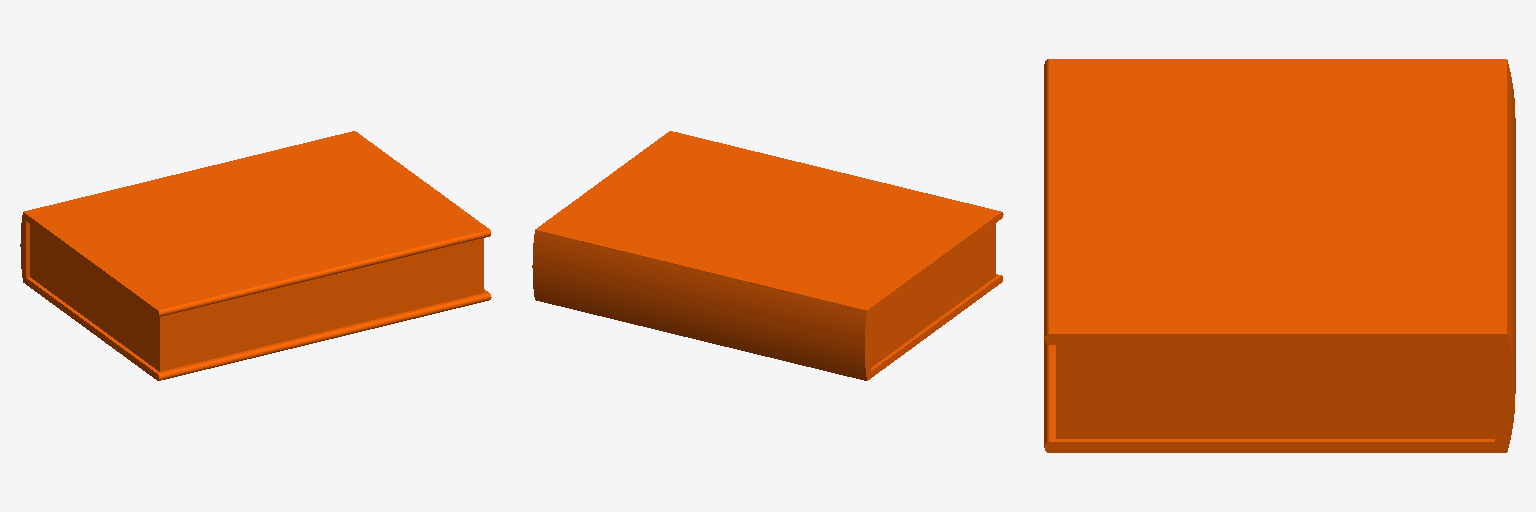
robot.urdf — Book_6c467f08afa8c50e8ff650f628611182:
<?xml version="1.0" ?>
<robot name="Book_6c467f08afa8c50e8ff650f628611182">
   <material name="obj_color">
      <color rgba="1.0 0.423529411765 0.0392156862745 1.0"/>
   </material>
   <link name="top">
      <inertial>
         <origin rpy="0.006898417032137814 0.01283724342119246 0.01872313165884507" xyz="0.0004640000000000059 0.007277835390769781 0.0004715763875897604"/>
         <mass value="2.315502644321294"/>
         <inertia ixx="0.006898417032137814" ixy="1.459146600543541e-20" ixz="-2.644703213485168e-20" iyy="0.012837243421236" iyz="1.600702517123921e-08" izz="0.01872313165880154"/>
      </inertial>
      <visual>
         <origin rpy="0 0 0" xyz="0 0 0"/>
         <geometry>
            <mesh filename="top_watertight_tiny.stl" scale="1 1 1"/>
         </geometry>
         <material name="obj_color"/>
      </visual>
      <collision>
         <origin rpy="0 0 0" xyz="0 0 0"/>
         <geometry>
            <mesh filename="top_watertight_tiny.obj" scale="1 1 1"/>
         </geometry>
      </collision>
   </link>
   <link name="bottom">
      <inertial>
         <origin rpy="1.633333333331402e-08 1.633333333331402e-08 1.633333333331402e-08" xyz="0.08660200000000004 0.08660200000000004 0.08660200000000004"/>
         <mass value="0.0009800000000000026"/>
         <inertia ixx="1.633333333331402e-08" ixy="-0" ixz="-0" iyy="1.633333333331402e-08" iyz="-0" izz="1.633333333331402e-08"/>
      </inertial>
      <visual>
         <origin rpy="0 0 0" xyz="0 0 0"/>
         <geometry>
            <mesh filename="bottom_watertight_tiny.stl" scale="1 1 1"/>
         </geometry>
         <material name="obj_color"/>
      </visual>
   </link>
   <link name="world"/>
   <joint name="world_to_base" type="fixed">
      <origin xyz="0 0 0"/>
      <axis xyz="0 0 0"/>
      <parent link="world"/>
      <child link="bottom"/>
   </joint>
   <joint name="rotation" type="revolute">
      <origin xyz="0 0 0"/>
      <axis xyz="0 0 -1"/>
      <parent link="bottom"/>
      <child link="top"/>
      <dynamics damping="1.0" friction="1.0"/>
      <limit effort="0.1" velocity="0.1" lower="0" upper="0.001"/>
   </joint>
</robot>

--- What the picture shows (computed from the rendered views, not written in the file) ---
The picture shows the robot from 3 angles, left to right: view 1: azimuth 30°, elevation 25°; view 2: azimuth 150°, elevation 25°; view 3: azimuth 270°, elevation 25°; orthographic projection.
Robot: Book_6c467f08afa8c50e8ff650f628611182 — 3 links, 2 joints (1 revolute, 1 fixed); root link world; default pose: every joint at zero.
Visible links, largest first — view 1: top; view 2: top; view 3: top.
Boxes of the visible links, x1,y1,x2,y2 form: top: [20, 131, 491, 380]; top: [532, 131, 1003, 380]; top: [1044, 59, 1515, 452].
Bounding box of the posed robot: 0.2528 × 0.1831 × 0.0514 m (x, y, z).
1 mesh visuals loaded from 2 distinct referenced files (1 binary STL); not drawn: 1 (reference not matched to a file when rendering).